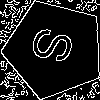S: (29, 24, 85, 69)
